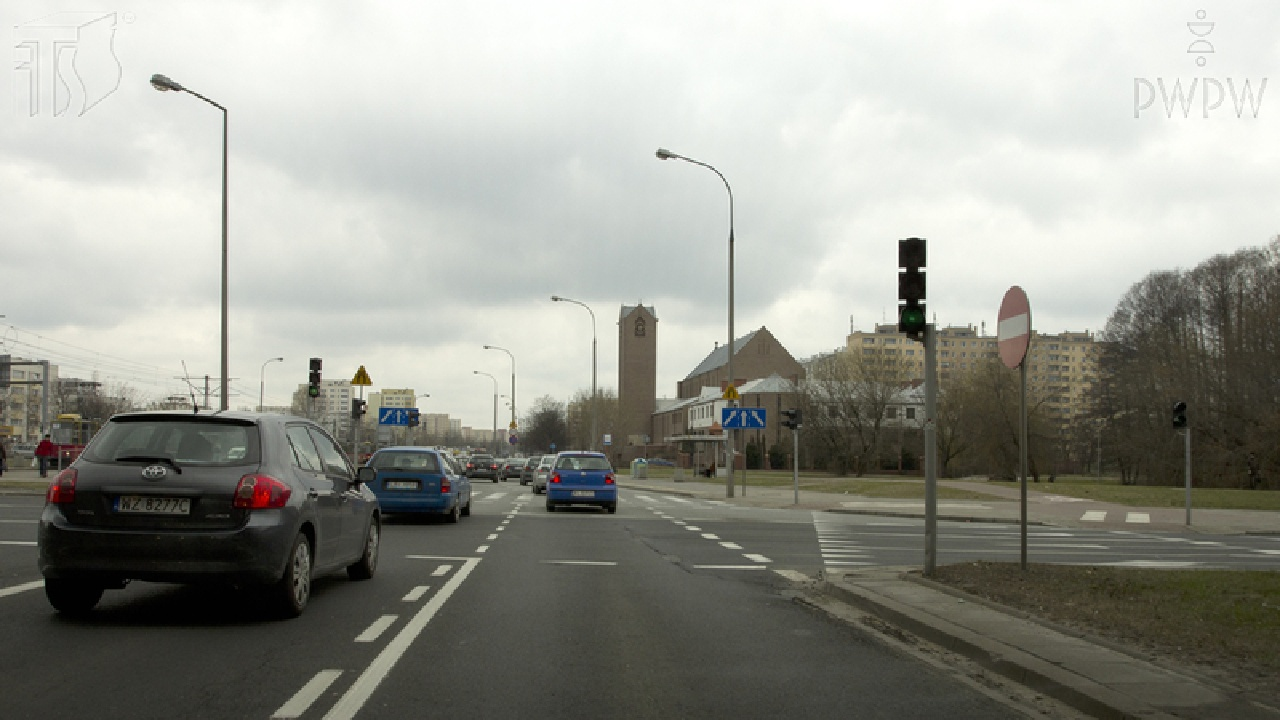B2: (988, 283, 1042, 362)
